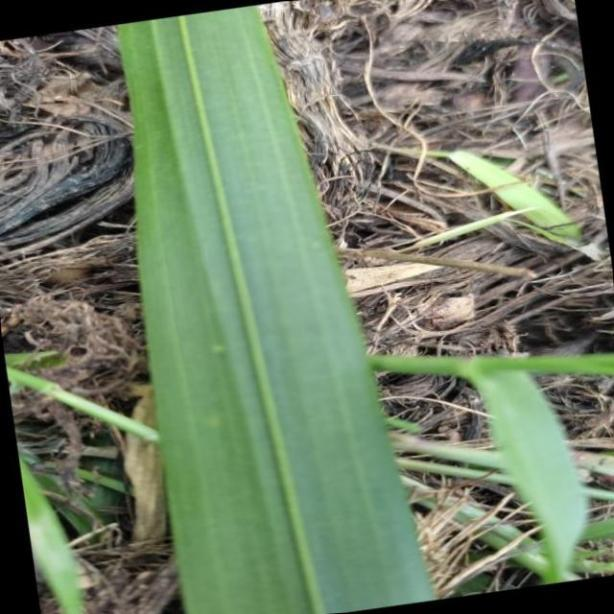Healthy: (123, 3, 432, 611)
